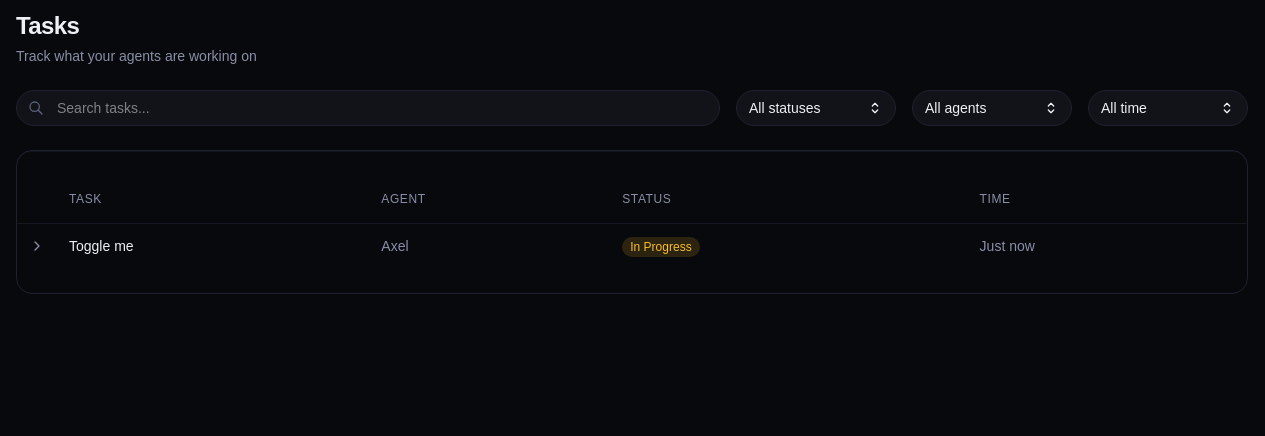
Scenario: Tasks page › toggling the same row collapses it
Click the text "Toggle me" at (101, 246), box [57,223,369,268]
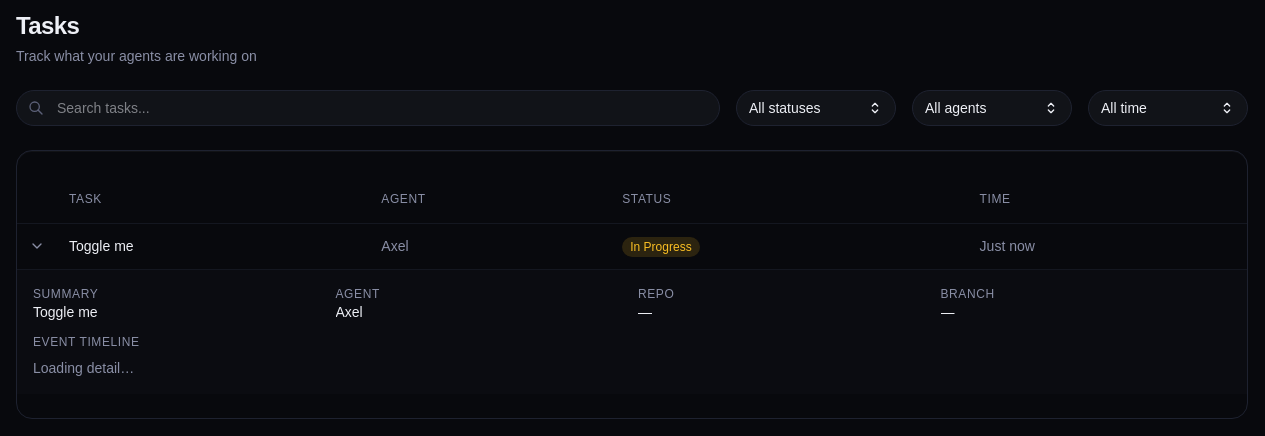
Now the text "Event timeline" is shown, box [33,334,140,348]
Click the text "Toggle me" at (101, 246), box [57,223,369,269]
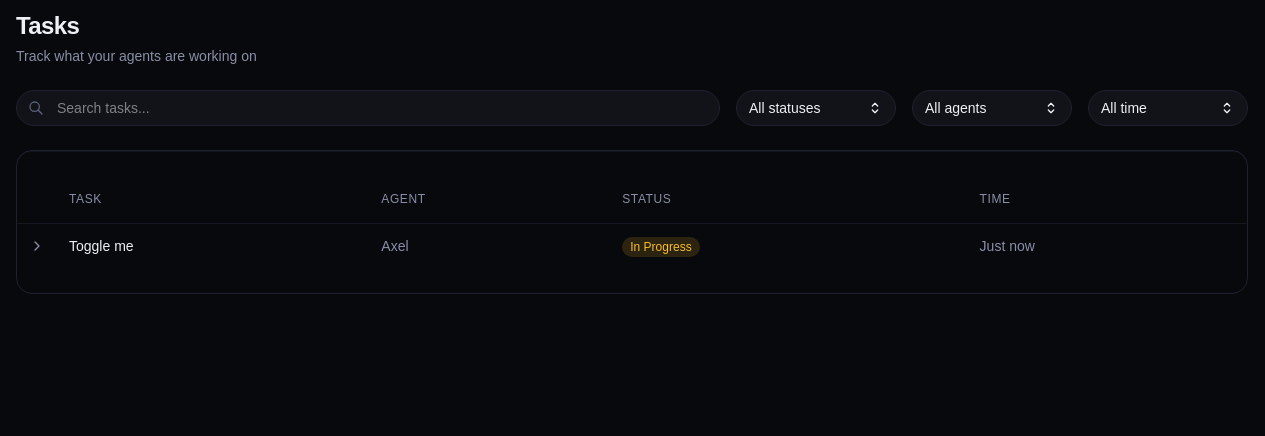
Now the text "Event timeline" is gone
